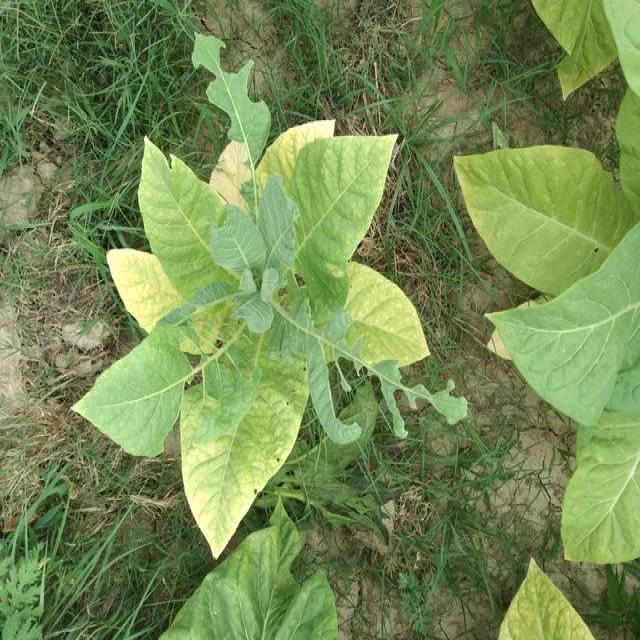crop: (68, 28, 467, 561)
